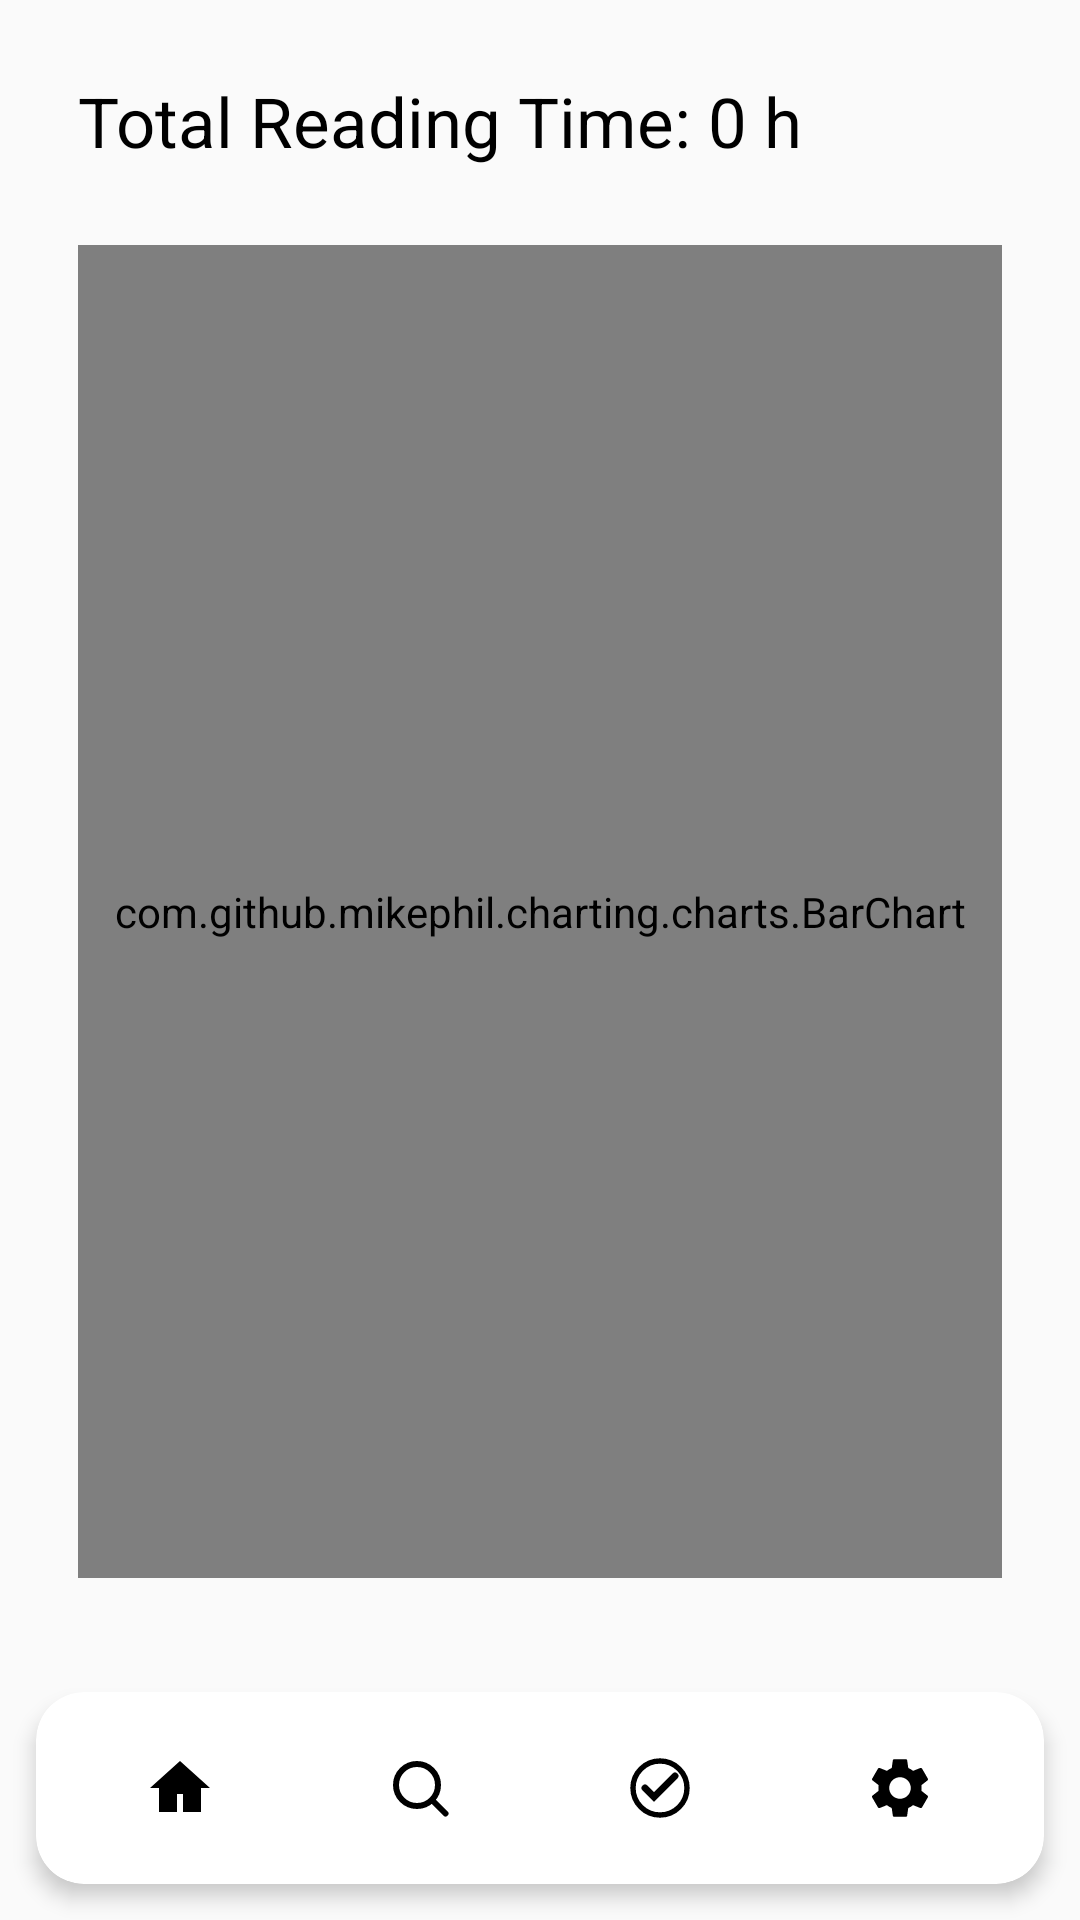

Icon bounding boxes for this 1080×1920 phone screenshot, format (x1, y1, x2, y2):
goal: (630, 1758, 690, 1818)
home: (150, 1761, 210, 1812)
Search: (393, 1761, 449, 1817)
settings: (872, 1759, 928, 1817)
